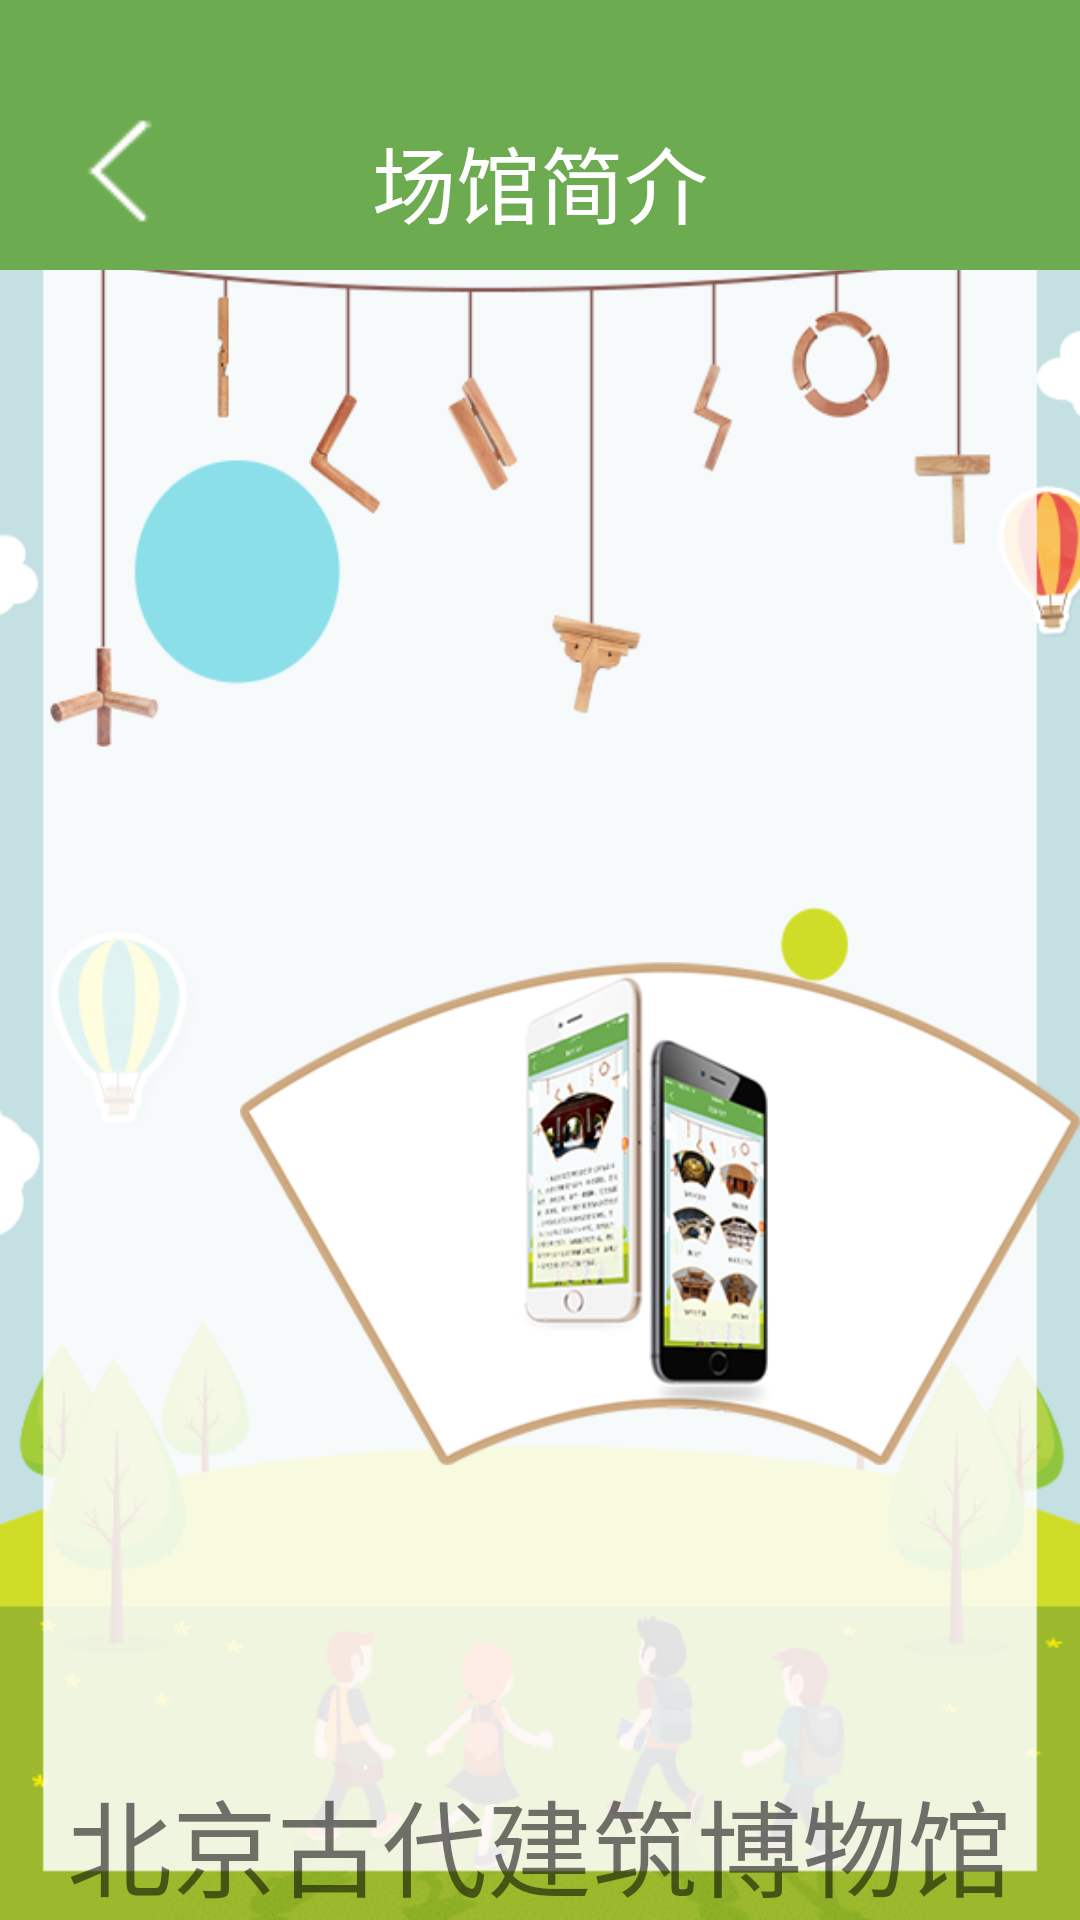

Point at icon controls on the screen. Image size 1080px x 1920px, points as point (x, y).
dao back: point (120, 171)
